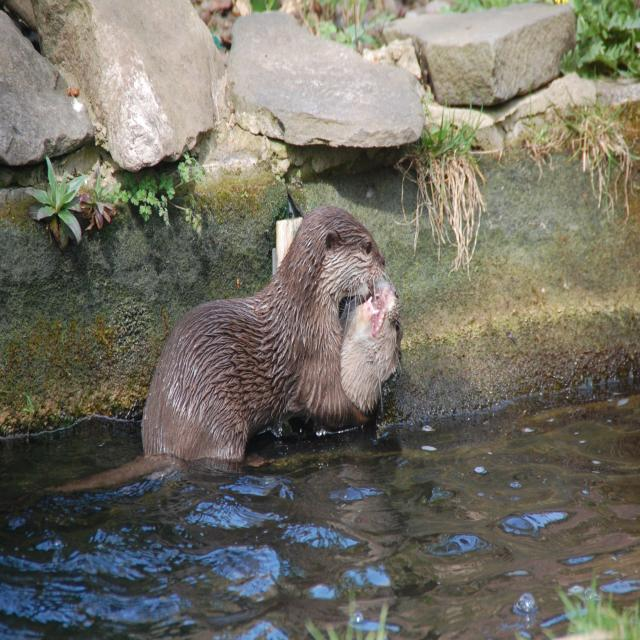otter: (143, 211, 386, 463), (341, 287, 404, 413)
